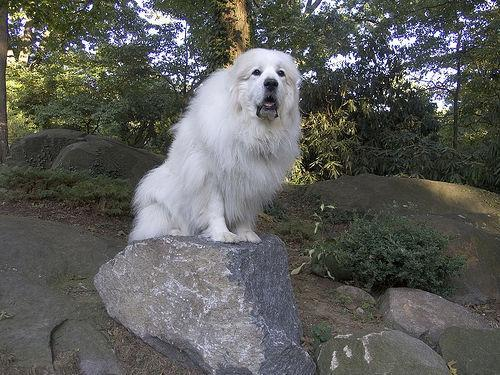Great_Pyrenees: (126, 46, 301, 242)
